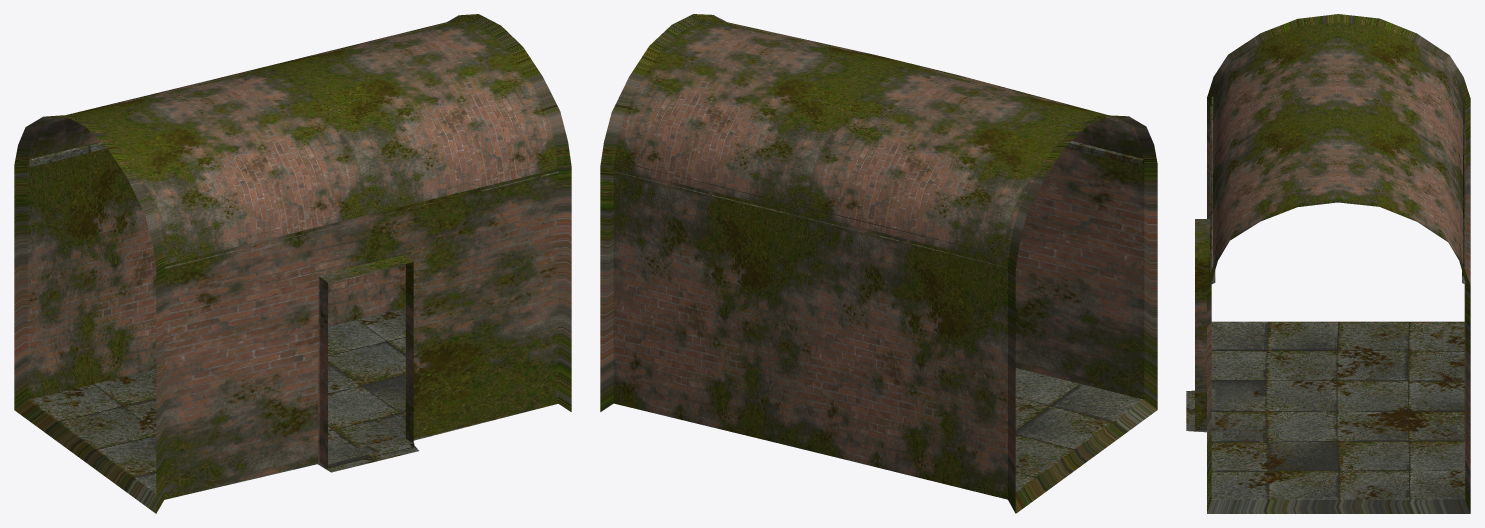
File: WallSectionDooway.fbx
3 renders of one model, left to right at view 1: azimuth 30°, elevation 25°; view 2: azimuth 150°, elevation 25°; view 3: azimuth 270°, elevation 25°, orthographic. The views are drawn at different scales.
Parts seen in each view (by area): view 1: WallSectionDooway; view 2: WallSectionDooway; view 3: WallSectionDooway.
Boxes of the visible parts, x1=… form: WallSectionDooway: x1=14, y1=14, x2=571, y2=513; WallSectionDooway: x1=600, y1=14, x2=1157, y2=513; WallSectionDooway: x1=1186, y1=14, x2=1470, y2=513.
Size of the model in its own units: 527 by 407 by 336.
